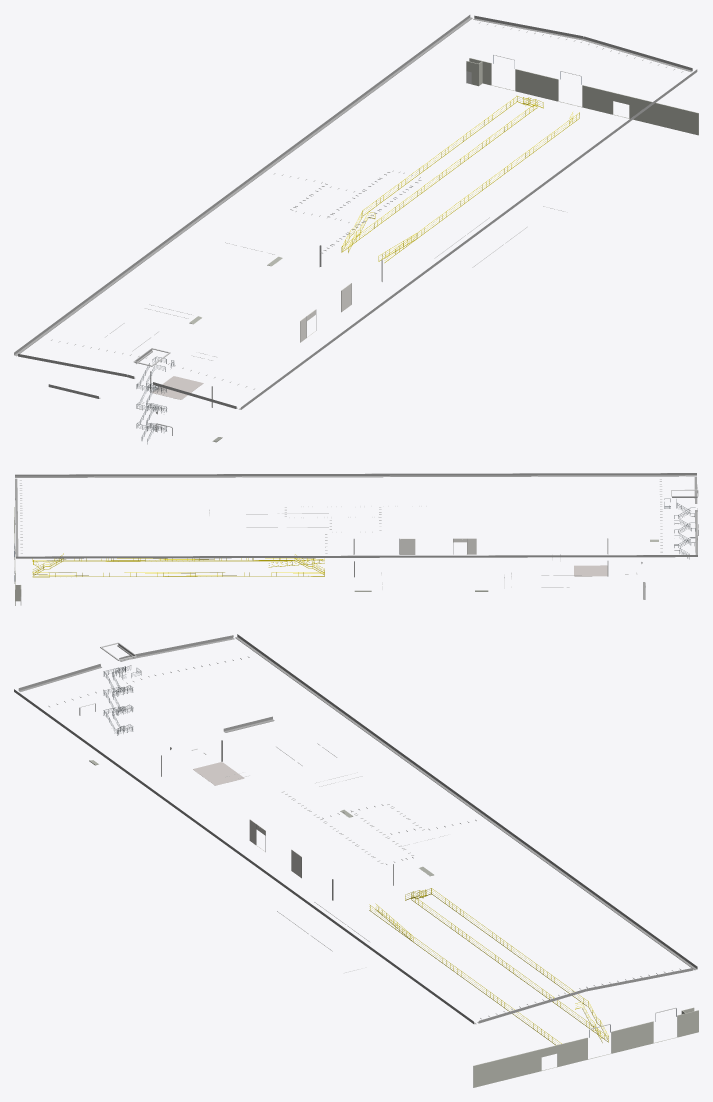
The model's file is pt107-l1t1-1542-107-con-ed-arq-mo-0001-r05.glb.
The picture shows the model from 3 angles, top to bottom: view 1: azimuth 30°, elevation 25°; view 2: azimuth 150°, elevation 25°; view 3: azimuth 270°, elevation 25°; orthographic projection. The views are drawn at different scales.
Parts seen in each view (by area): view 1: 37eGZFyvX8O9hRN4qFpRhd, 3SrBtDeiv6oeu8VuwpNFpG, 1rtYO7al13rhRs1L0EbIAX, 3SrBtDeiv6oeu8VuwpNFaG, 3IsmCmo4j5YPzE1jY7CAe$, 3IsmCmo4j5YPzE1jY7CAeF; view 2: 1rtYO7al13rhRs1L0EbIAX, 37eGZFyvX8O9hRN4qFpRhd, 3IsmCmo4j5YPzE1jY7CAeF, 3IsmCmo4j5YPzE1jY7CAe$, 2AVURXbvHDmuIc6QiuiYaE, 3IsmCmo4j5YPzE1jY7CAhw, 0ZVyw_1fr1gunGrQJaPj5d, 2LLS1eKsv4r95_OdBLWGcC; view 3: 37eGZFyvX8O9hRN4qFpRhd, 3SrBtDeiv6oeu8VuwpNFpG, 1rtYO7al13rhRs1L0EbIAX, 3SrBtDeiv6oeu8VuwpNFaG, 3IsmCmo4j5YPzE1jY7CAeF, 2AVURXbvHDmuIc6QiuiYaE.
Part boxes in pixels (box(x1,y1,x2,y2)): 37eGZFyvX8O9hRN4qFpRhd: box(14, 15, 472, 356); 3SrBtDeiv6oeu8VuwpNFpG: box(582, 85, 698, 135); 1rtYO7al13rhRs1L0EbIAX: box(239, 69, 697, 409); 3SrBtDeiv6oeu8VuwpNFaG: box(515, 69, 558, 101); 3IsmCmo4j5YPzE1jY7CAe$: box(384, 112, 579, 262); 3IsmCmo4j5YPzE1jY7CAeF: box(341, 102, 537, 252); 1rtYO7al13rhRs1L0EbIAX: box(15, 473, 696, 477); 37eGZFyvX8O9hRN4qFpRhd: box(16, 555, 697, 558); 3IsmCmo4j5YPzE1jY7CAeF: box(33, 572, 324, 577); 3IsmCmo4j5YPzE1jY7CAe$: box(32, 558, 324, 561); 2AVURXbvHDmuIc6QiuiYaE: box(574, 565, 607, 576); 3IsmCmo4j5YPzE1jY7CAhw: box(63, 558, 294, 560); 0ZVyw_1fr1gunGrQJaPj5d: box(400, 538, 415, 554); 2LLS1eKsv4r95_OdBLWGcC: box(674, 505, 695, 559); 37eGZFyvX8O9hRN4qFpRhd: box(235, 634, 697, 970); 3SrBtDeiv6oeu8VuwpNFpG: box(473, 1037, 587, 1087); 1rtYO7al13rhRs1L0EbIAX: box(14, 689, 476, 1024); 3SrBtDeiv6oeu8VuwpNFaG: box(611, 1021, 653, 1053); 3IsmCmo4j5YPzE1jY7CAeF: box(411, 894, 608, 1042); 2AVURXbvHDmuIc6QiuiYaE: box(193, 762, 244, 785).
Size of the model in its own units: 153 by 16.73 by 114.
